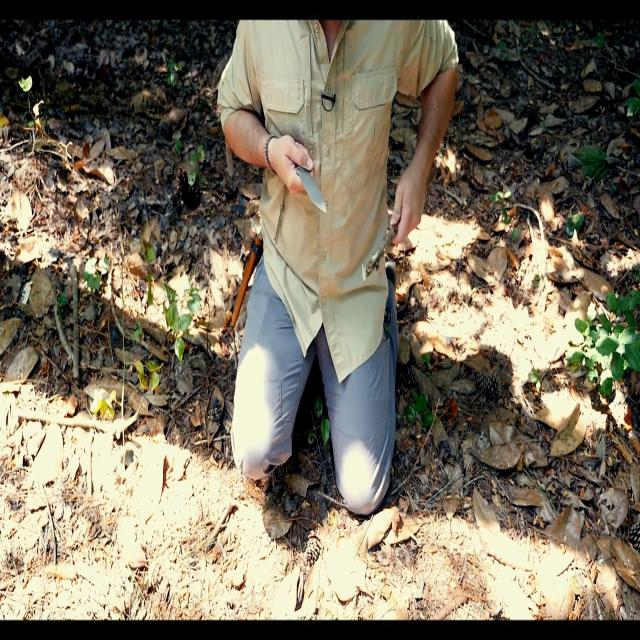knife: (301, 167, 331, 217)
